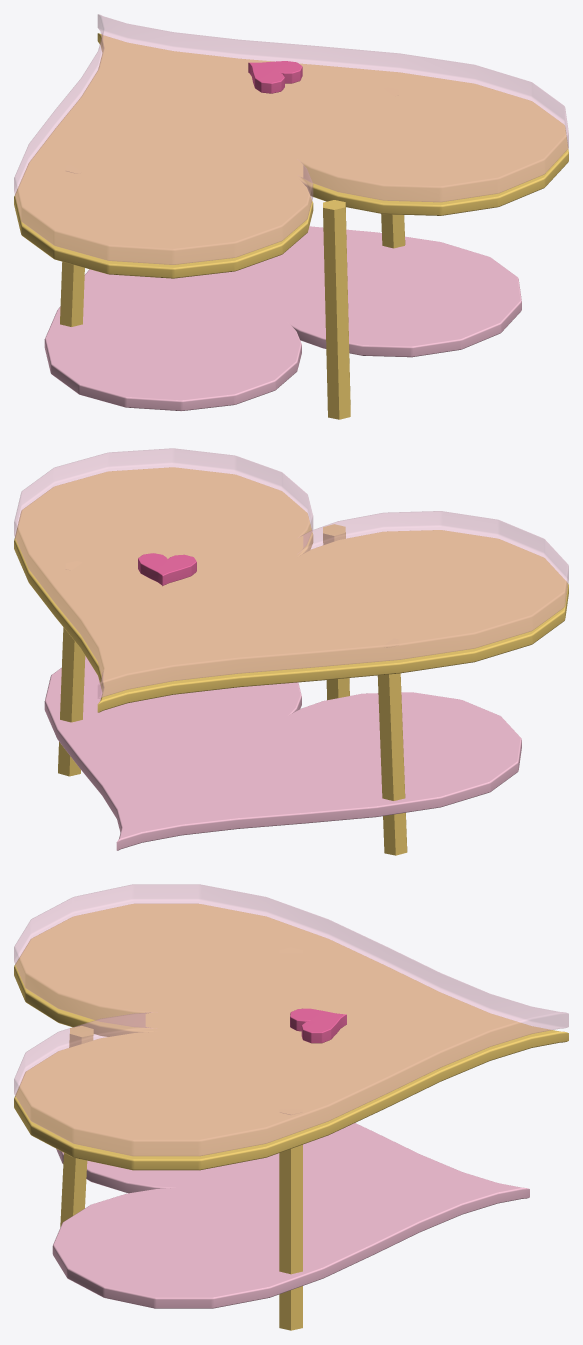
Rendered from coffee_table_heart.glb.
3 views of the same model, one above another, from view 1: azimuth 30°, elevation 25°; view 2: azimuth 150°, elevation 25°; view 3: azimuth 270°, elevation 25° (orthographic). The views are drawn at different scales.
Visible parts, largest first — view 1: coffee_table_heart; view 2: coffee_table_heart; view 3: coffee_table_heart.
Part boxes in pixels (left/top/right/bottom): coffee_table_heart: left=14, top=14, right=568, bottom=419; coffee_table_heart: left=14, top=448, right=568, bottom=855; coffee_table_heart: left=14, top=884, right=568, bottom=1330.
Size of the model in its own units: 0.9873 by 0.4509 by 0.9015.
